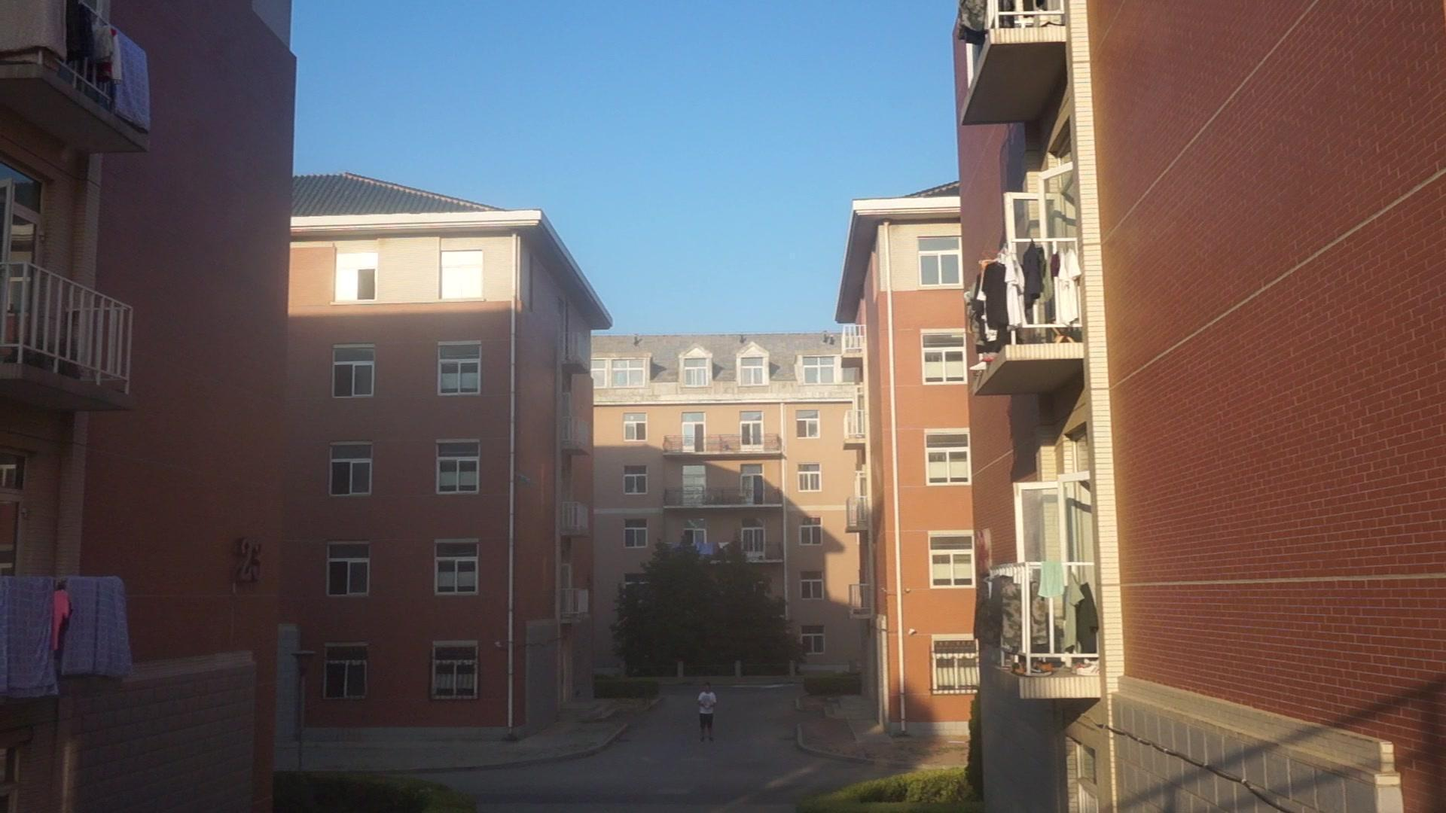UAV: (516, 473, 530, 487)
